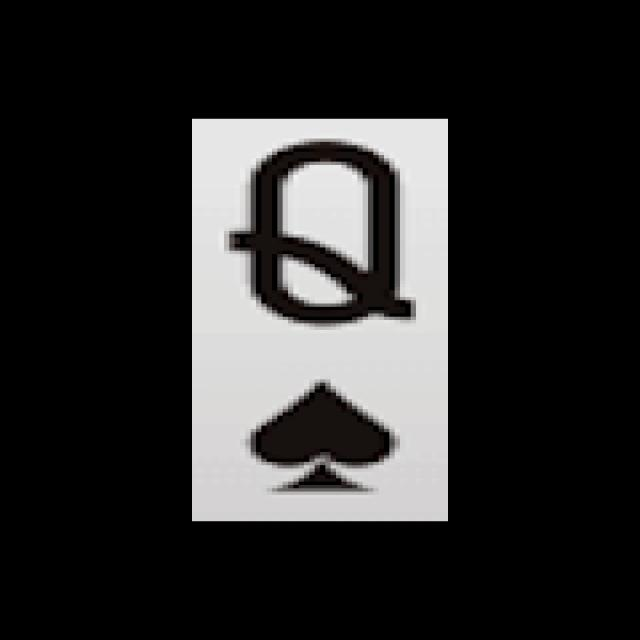QS: (207, 131, 433, 504)
